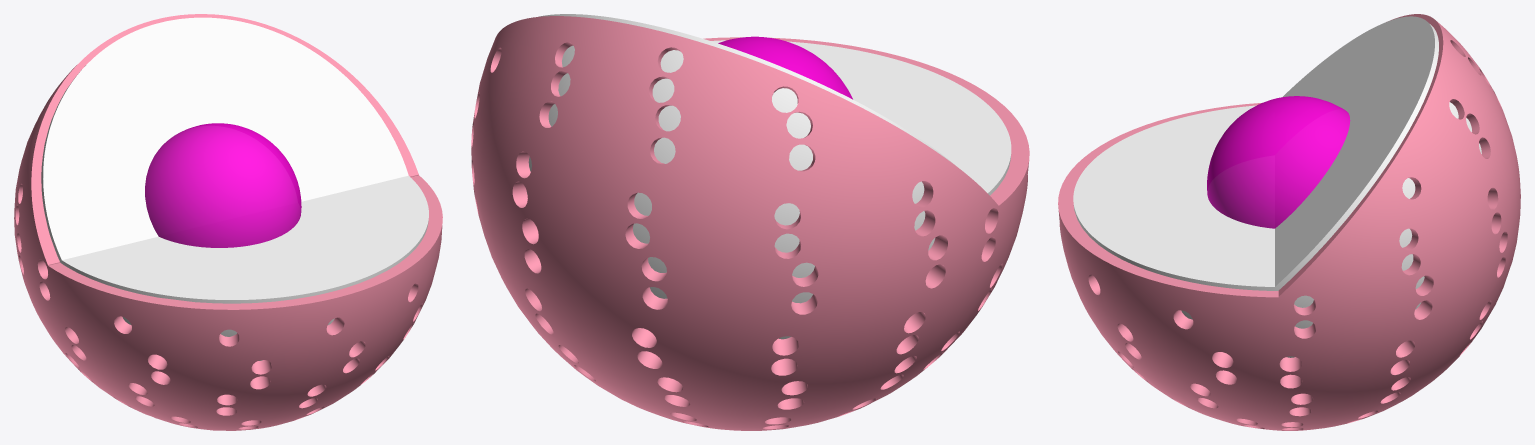
The model's file is nucleo.glb.
The picture shows the model from 3 angles, left to right: view 1: azimuth 30°, elevation 25°; view 2: azimuth 150°, elevation 25°; view 3: azimuth 270°, elevation 25°; orthographic projection. The views are drawn at different scales.
Visible parts, largest first — view 1: Object_62; view 2: Object_62; view 3: Object_62.
Boxes of the visible parts, bbox=[...] form: Object_62: bbox=[14, 14, 442, 430]; Object_62: bbox=[471, 14, 1029, 430]; Object_62: bbox=[1058, 14, 1520, 430].
Bounding box in the file's own units: 9.42 × 8.19 × 9.42.
Materials: 3 (2 with a texture image).
